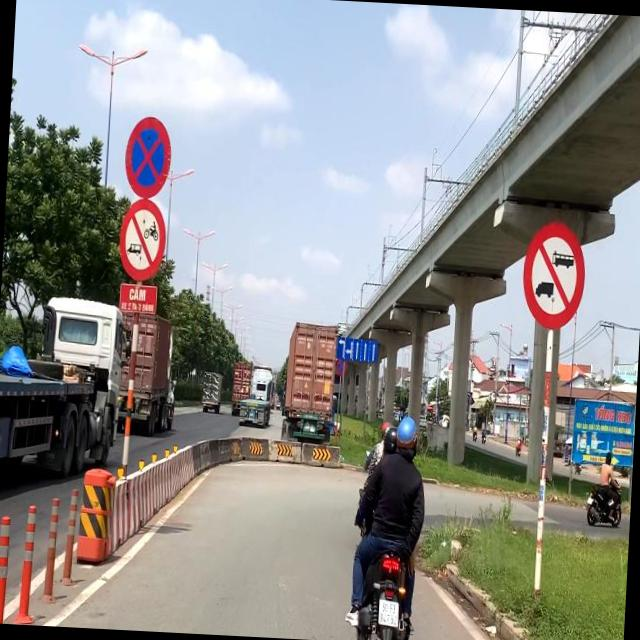P-104: (116, 196, 166, 284)
P-130: (123, 114, 173, 197)
